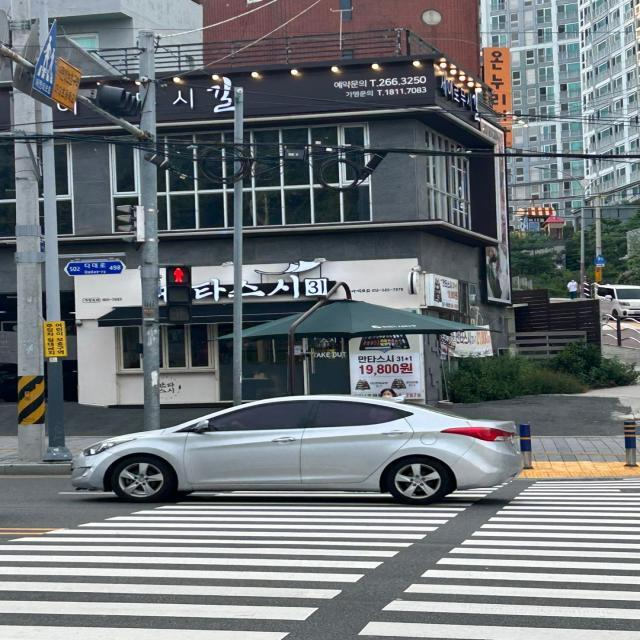red_light: (166, 264, 190, 284)
